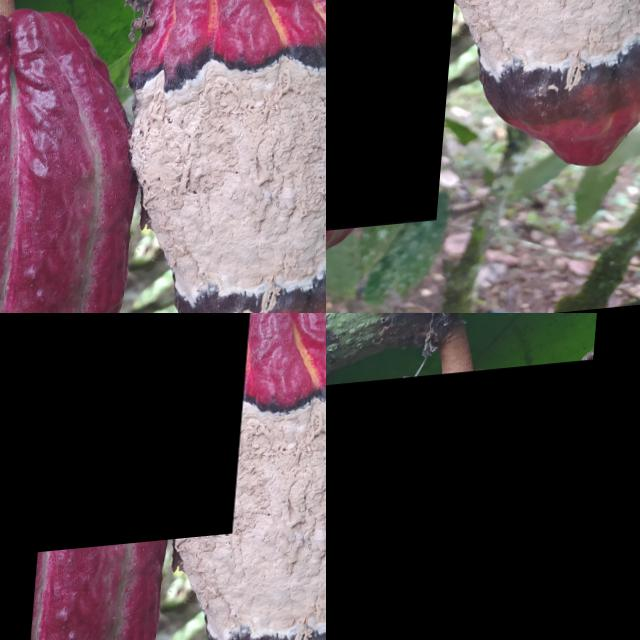Monilia: (326, 0, 471, 247), (568, 313, 640, 640)
Sana: (326, 365, 612, 640), (25, 313, 254, 557), (0, 313, 61, 640)
